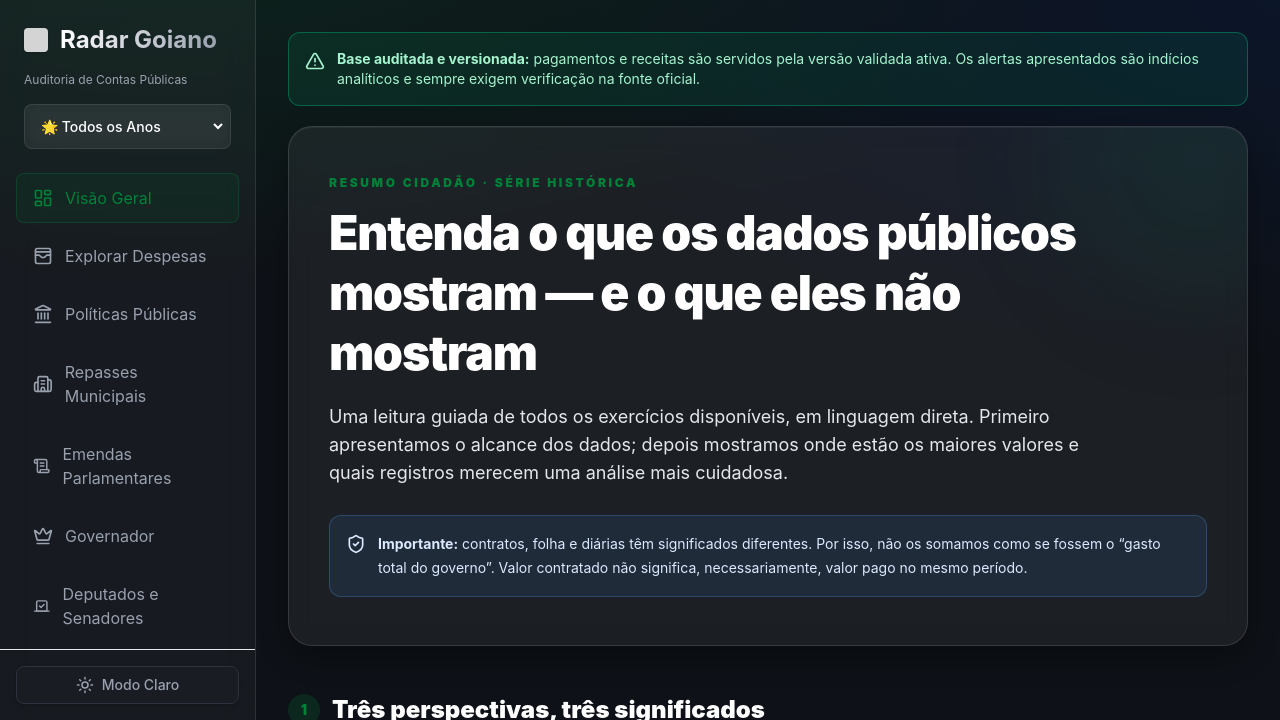
Test case: Radar Goiano - Testes de Interface e IntegraÃ§Ã£o › Deve alternar para o Tema Claro com sucesso
O padrÃ£o inicial do App.jsx Ã© o tema escuro. Vamos testar o botÃ£o!
Click the button "Modo Claro" at (128, 685), box [16,666,239,704]
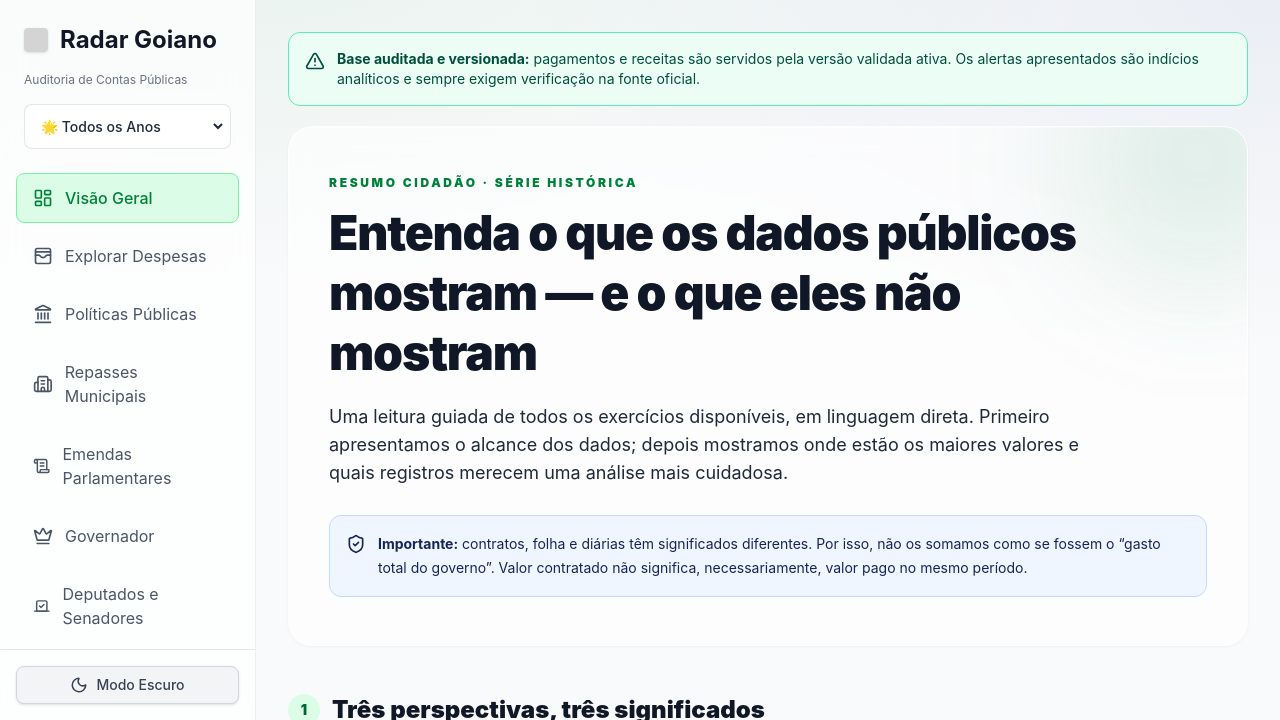
Now the button "Modo Escuro" is shown, box [16,666,239,704]
